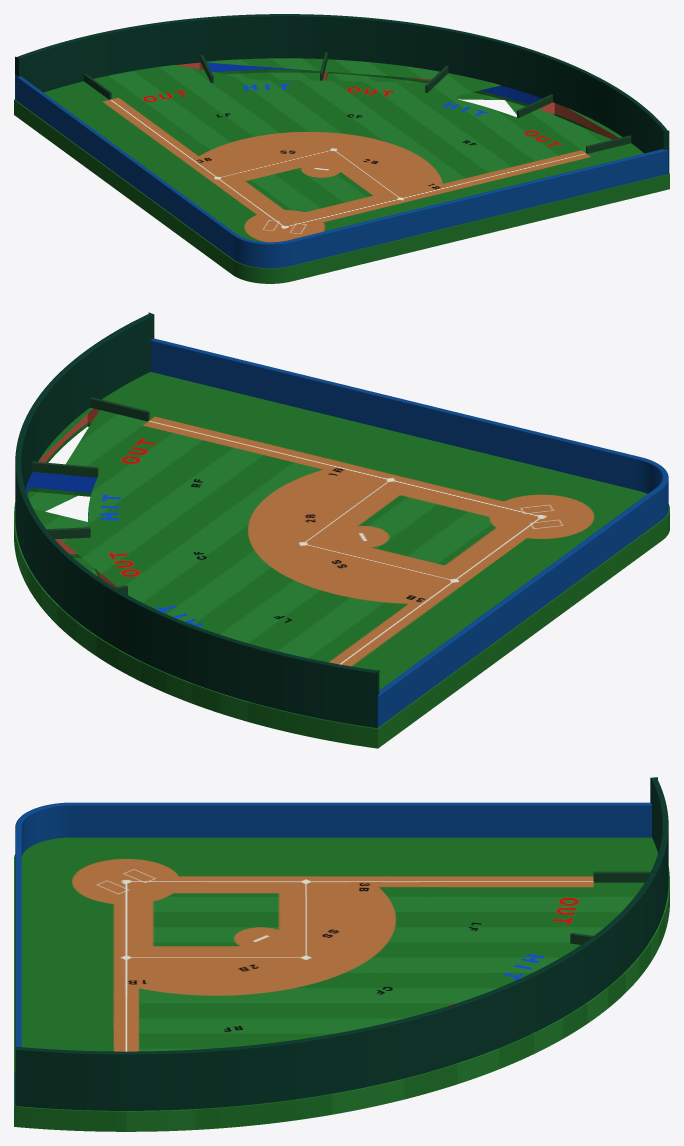
The model's file is Stadium.fbx.
The picture shows the model from 3 angles, top to bottom: view 1: azimuth 30°, elevation 25°; view 2: azimuth 150°, elevation 25°; view 3: azimuth 270°, elevation 25°; orthographic projection. The views are drawn at different scales.
Parts seen in each view (by area): view 1: Field_PlaySurface, OutfieldFenceWall, StandBoundaryWall, OutfieldPocket_05_OUT, OutfieldPocket_04_HIT, OutfieldPocket_02_HIT; view 2: Field_PlaySurface, OutfieldFenceWall, StandBoundaryWall, OutfieldPocket_04_HIT, PocketDivider_02, PocketDivider_01; view 3: Field_PlaySurface, OutfieldFenceWall, StandBoundaryWall, PocketDivider_06.
Part boxes in pixels (x1=…): Field_PlaySurface: x1=14, y1=58, x2=669, y2=283; OutfieldFenceWall: x1=15, y1=14, x2=669, y2=173; StandBoundaryWall: x1=15, y1=75, x2=668, y2=268; OutfieldPocket_05_OUT: x1=539, y1=102, x2=618, y2=139; OutfieldPocket_04_HIT: x1=480, y1=85, x2=541, y2=104; OutfieldPocket_02_HIT: x1=207, y1=62, x2=298, y2=71; Field_PlaySurface: x1=14, y1=372, x2=669, y2=748; OutfieldFenceWall: x1=15, y1=312, x2=379, y2=727; StandBoundaryWall: x1=150, y1=338, x2=668, y2=727; OutfieldPocket_04_HIT: x1=25, y1=472, x2=96, y2=521; PocketDivider_02: x1=32, y1=461, x2=98, y2=477; PocketDivider_01: x1=90, y1=397, x2=149, y2=421; Field_PlaySurface: x1=14, y1=837, x2=669, y2=1131; OutfieldFenceWall: x1=15, y1=777, x2=668, y2=1110; StandBoundaryWall: x1=14, y1=802, x2=651, y2=1105; PocketDivider_06: x1=593, y1=871, x2=650, y2=882.
Bounding box in the file's own units: 73 × 9.59 × 73.
8 materials, 1 textured.
